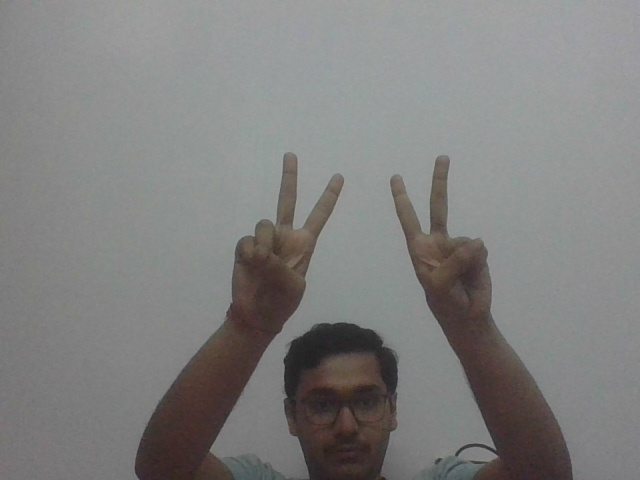V: (225, 147, 346, 312), (387, 148, 495, 316)
